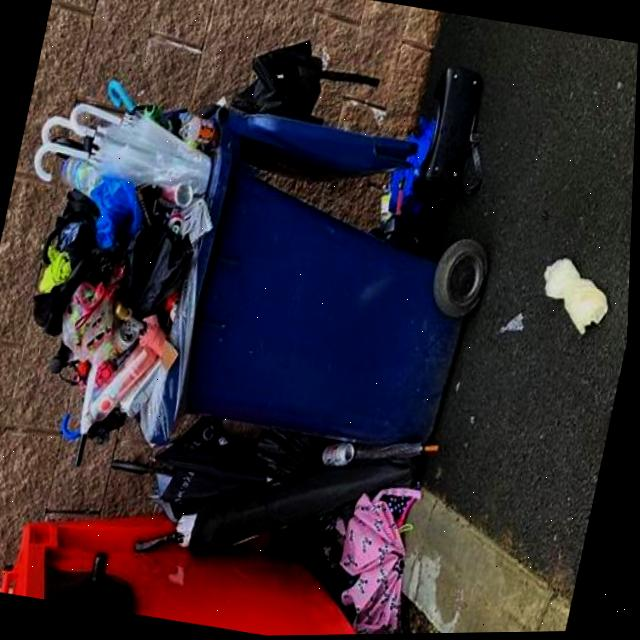Garbage: (36, 78, 439, 636), (232, 40, 376, 124)
Plastic_Bag: (232, 40, 322, 120), (90, 175, 145, 247)
